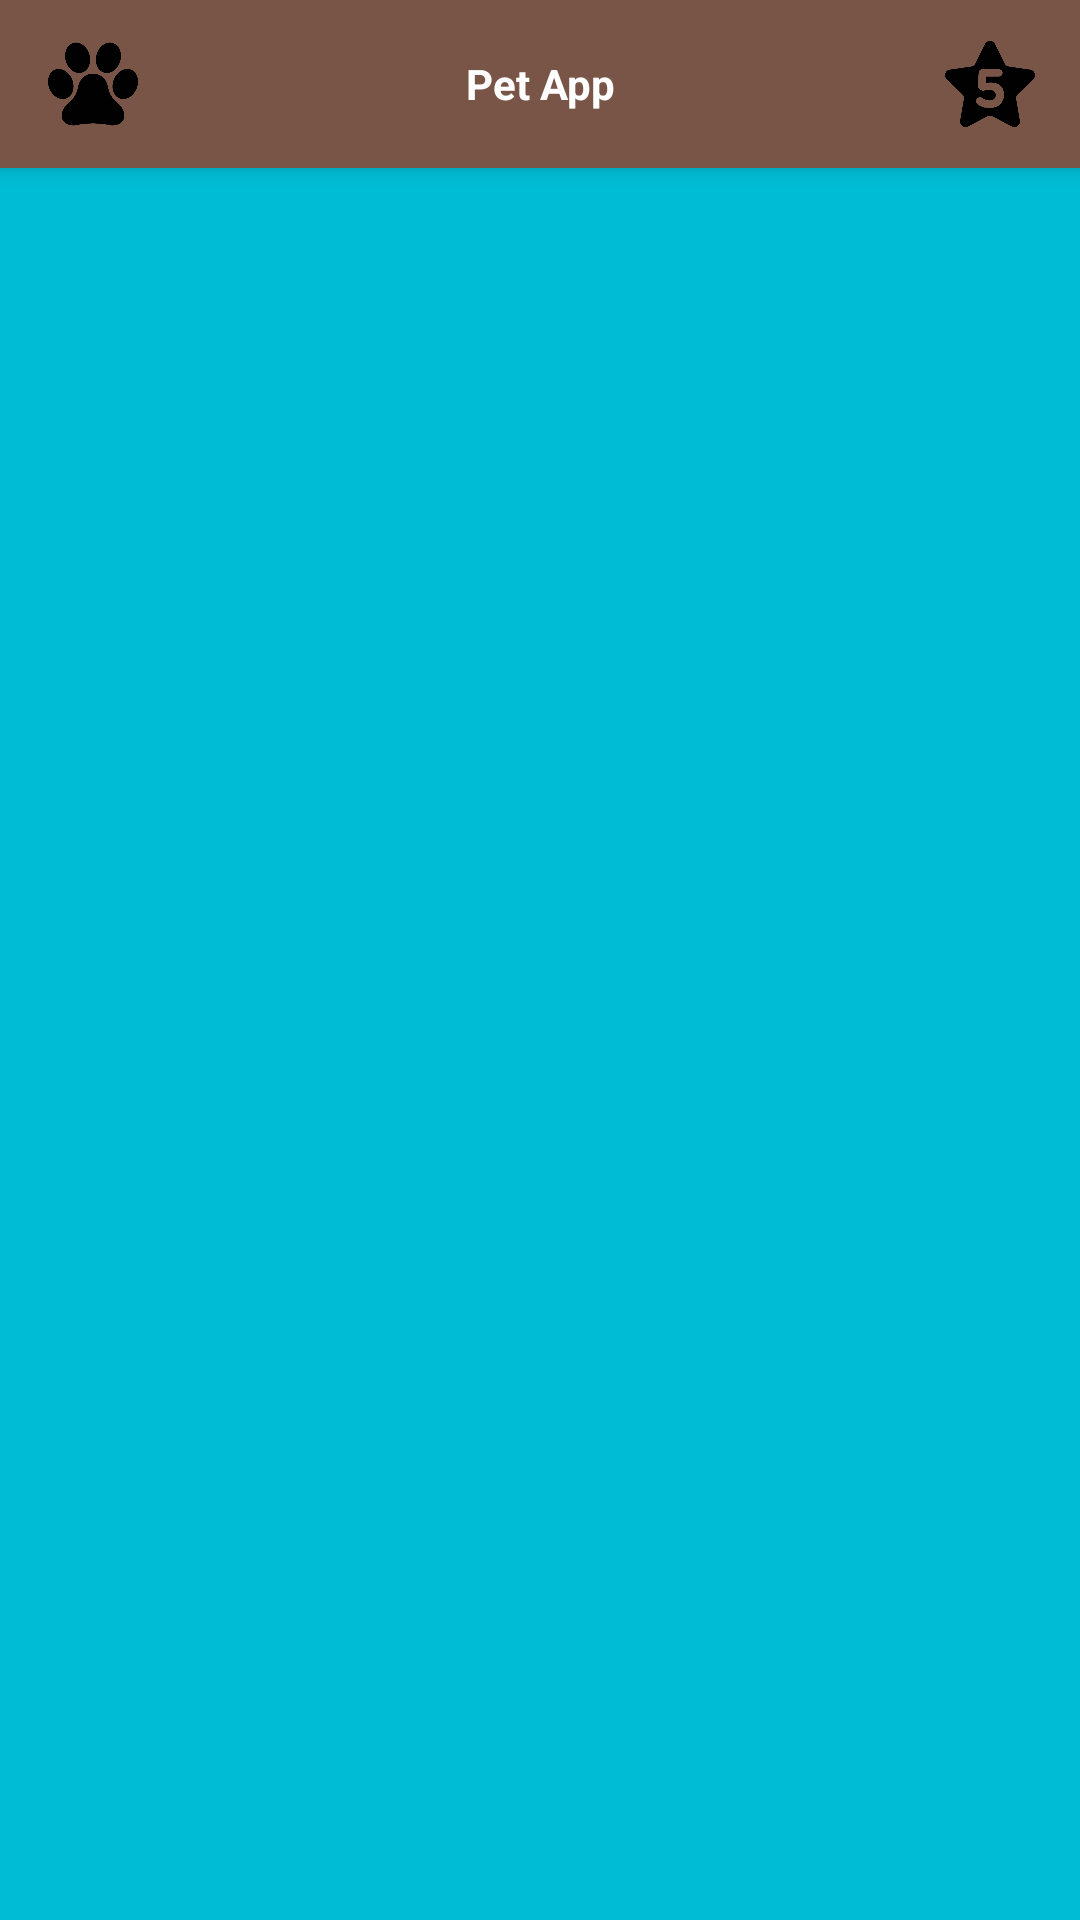

Where icons sit on this 1080x1920 app screen, as (x1, y1, x2, y2):
paw: (48, 42, 138, 126)
star: (945, 41, 1035, 127)
